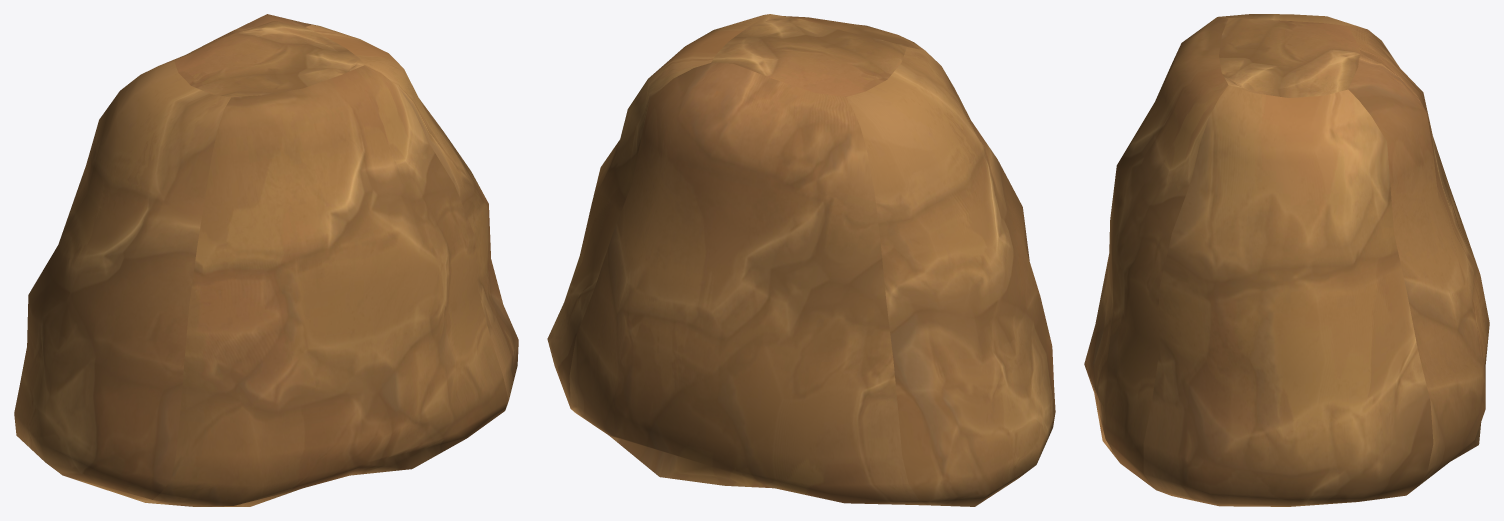
File: Lowest_islands5.fbx
3 renders of one model, left to right at view 1: azimuth 30°, elevation 25°; view 2: azimuth 150°, elevation 25°; view 3: azimuth 270°, elevation 25°, orthographic. The views are drawn at different scales.
Visible parts, largest first — view 1: Cube.004; view 2: Cube.004; view 3: Cube.004.
Part boxes in pixels (left/top/right/bottom): Cube.004: left=14, top=14, right=518, bottom=506; Cube.004: left=547, top=14, right=1055, bottom=506; Cube.004: left=1084, top=14, right=1489, bottom=506.
Bounding box in the file's own units: 813 × 655 × 616.
Materials: 1 (1 with a texture image).
